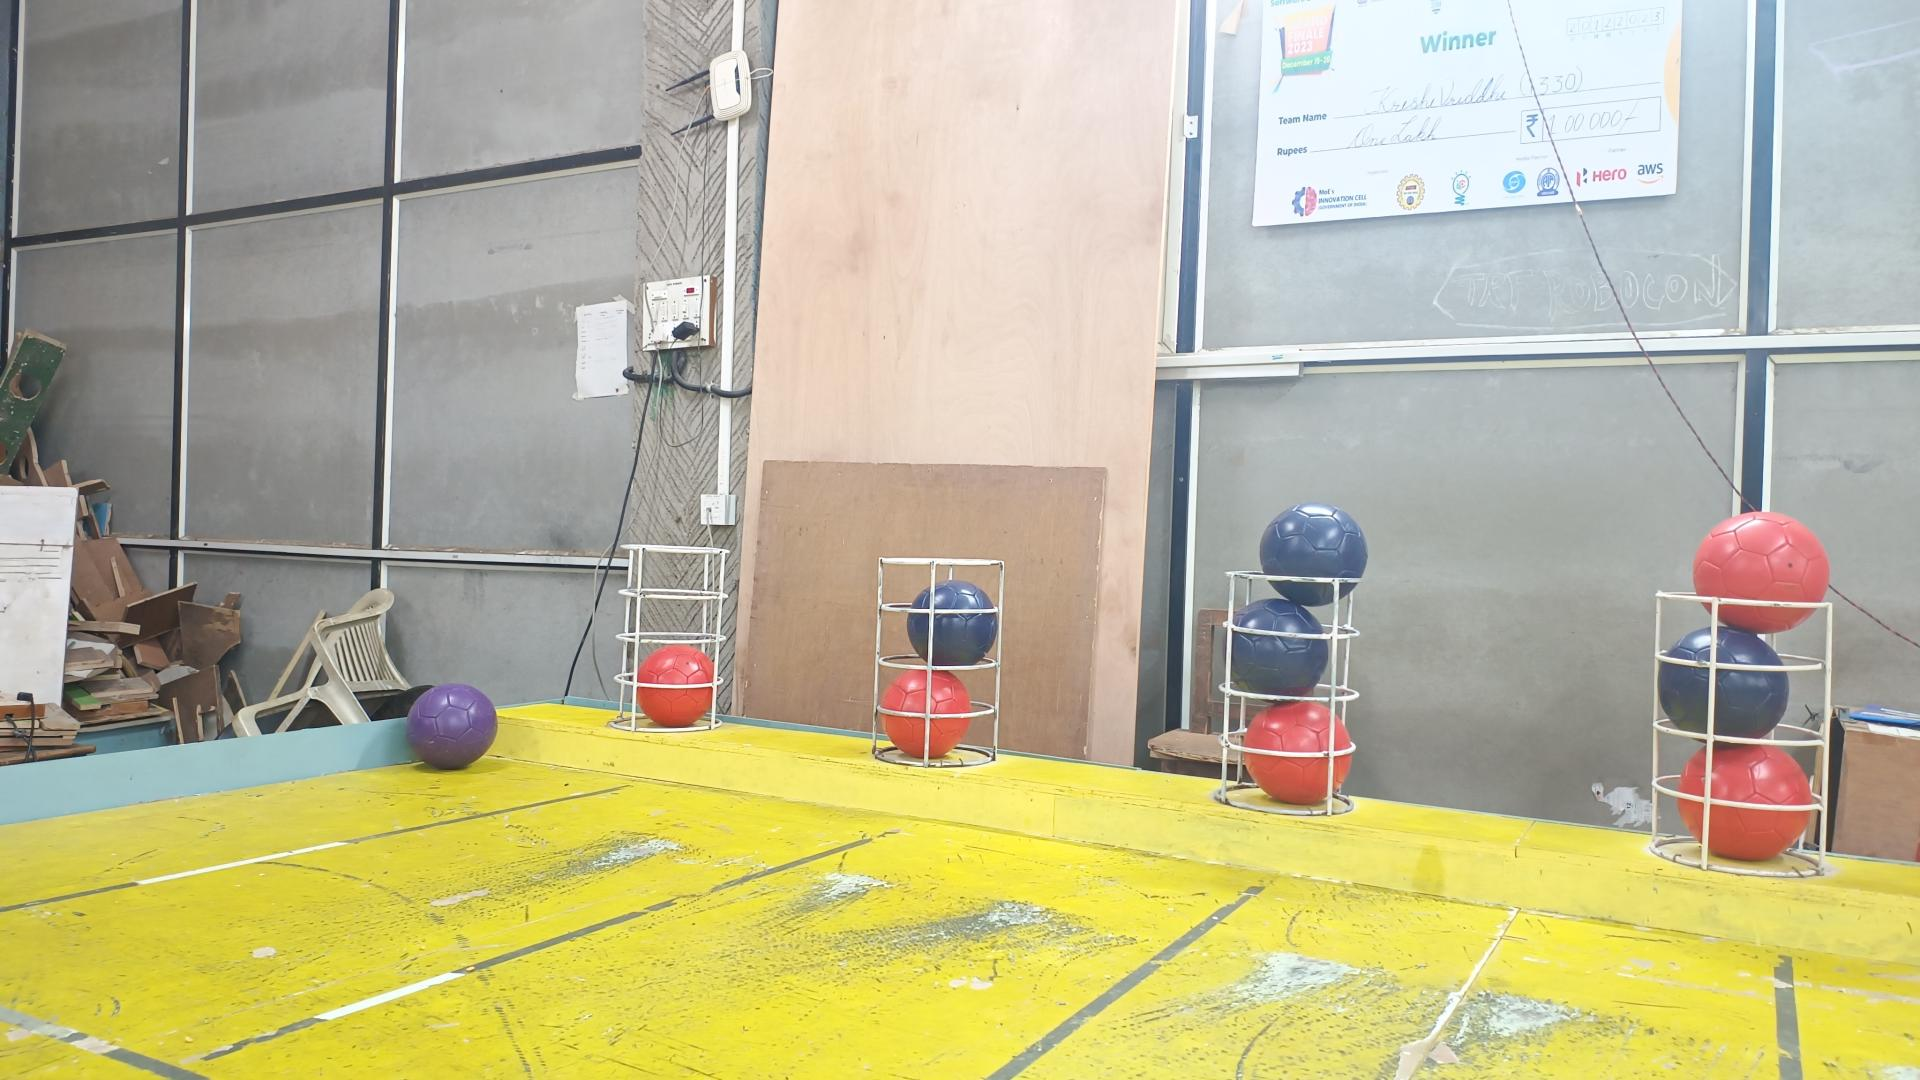dhoka: (1658, 626, 1789, 740), (1258, 501, 1370, 607), (1224, 600, 1328, 698), (906, 582, 1000, 669)
laale: (1693, 513, 1828, 633), (1677, 742, 1816, 858), (1240, 698, 1349, 803), (880, 669, 973, 758), (634, 645, 713, 727)
